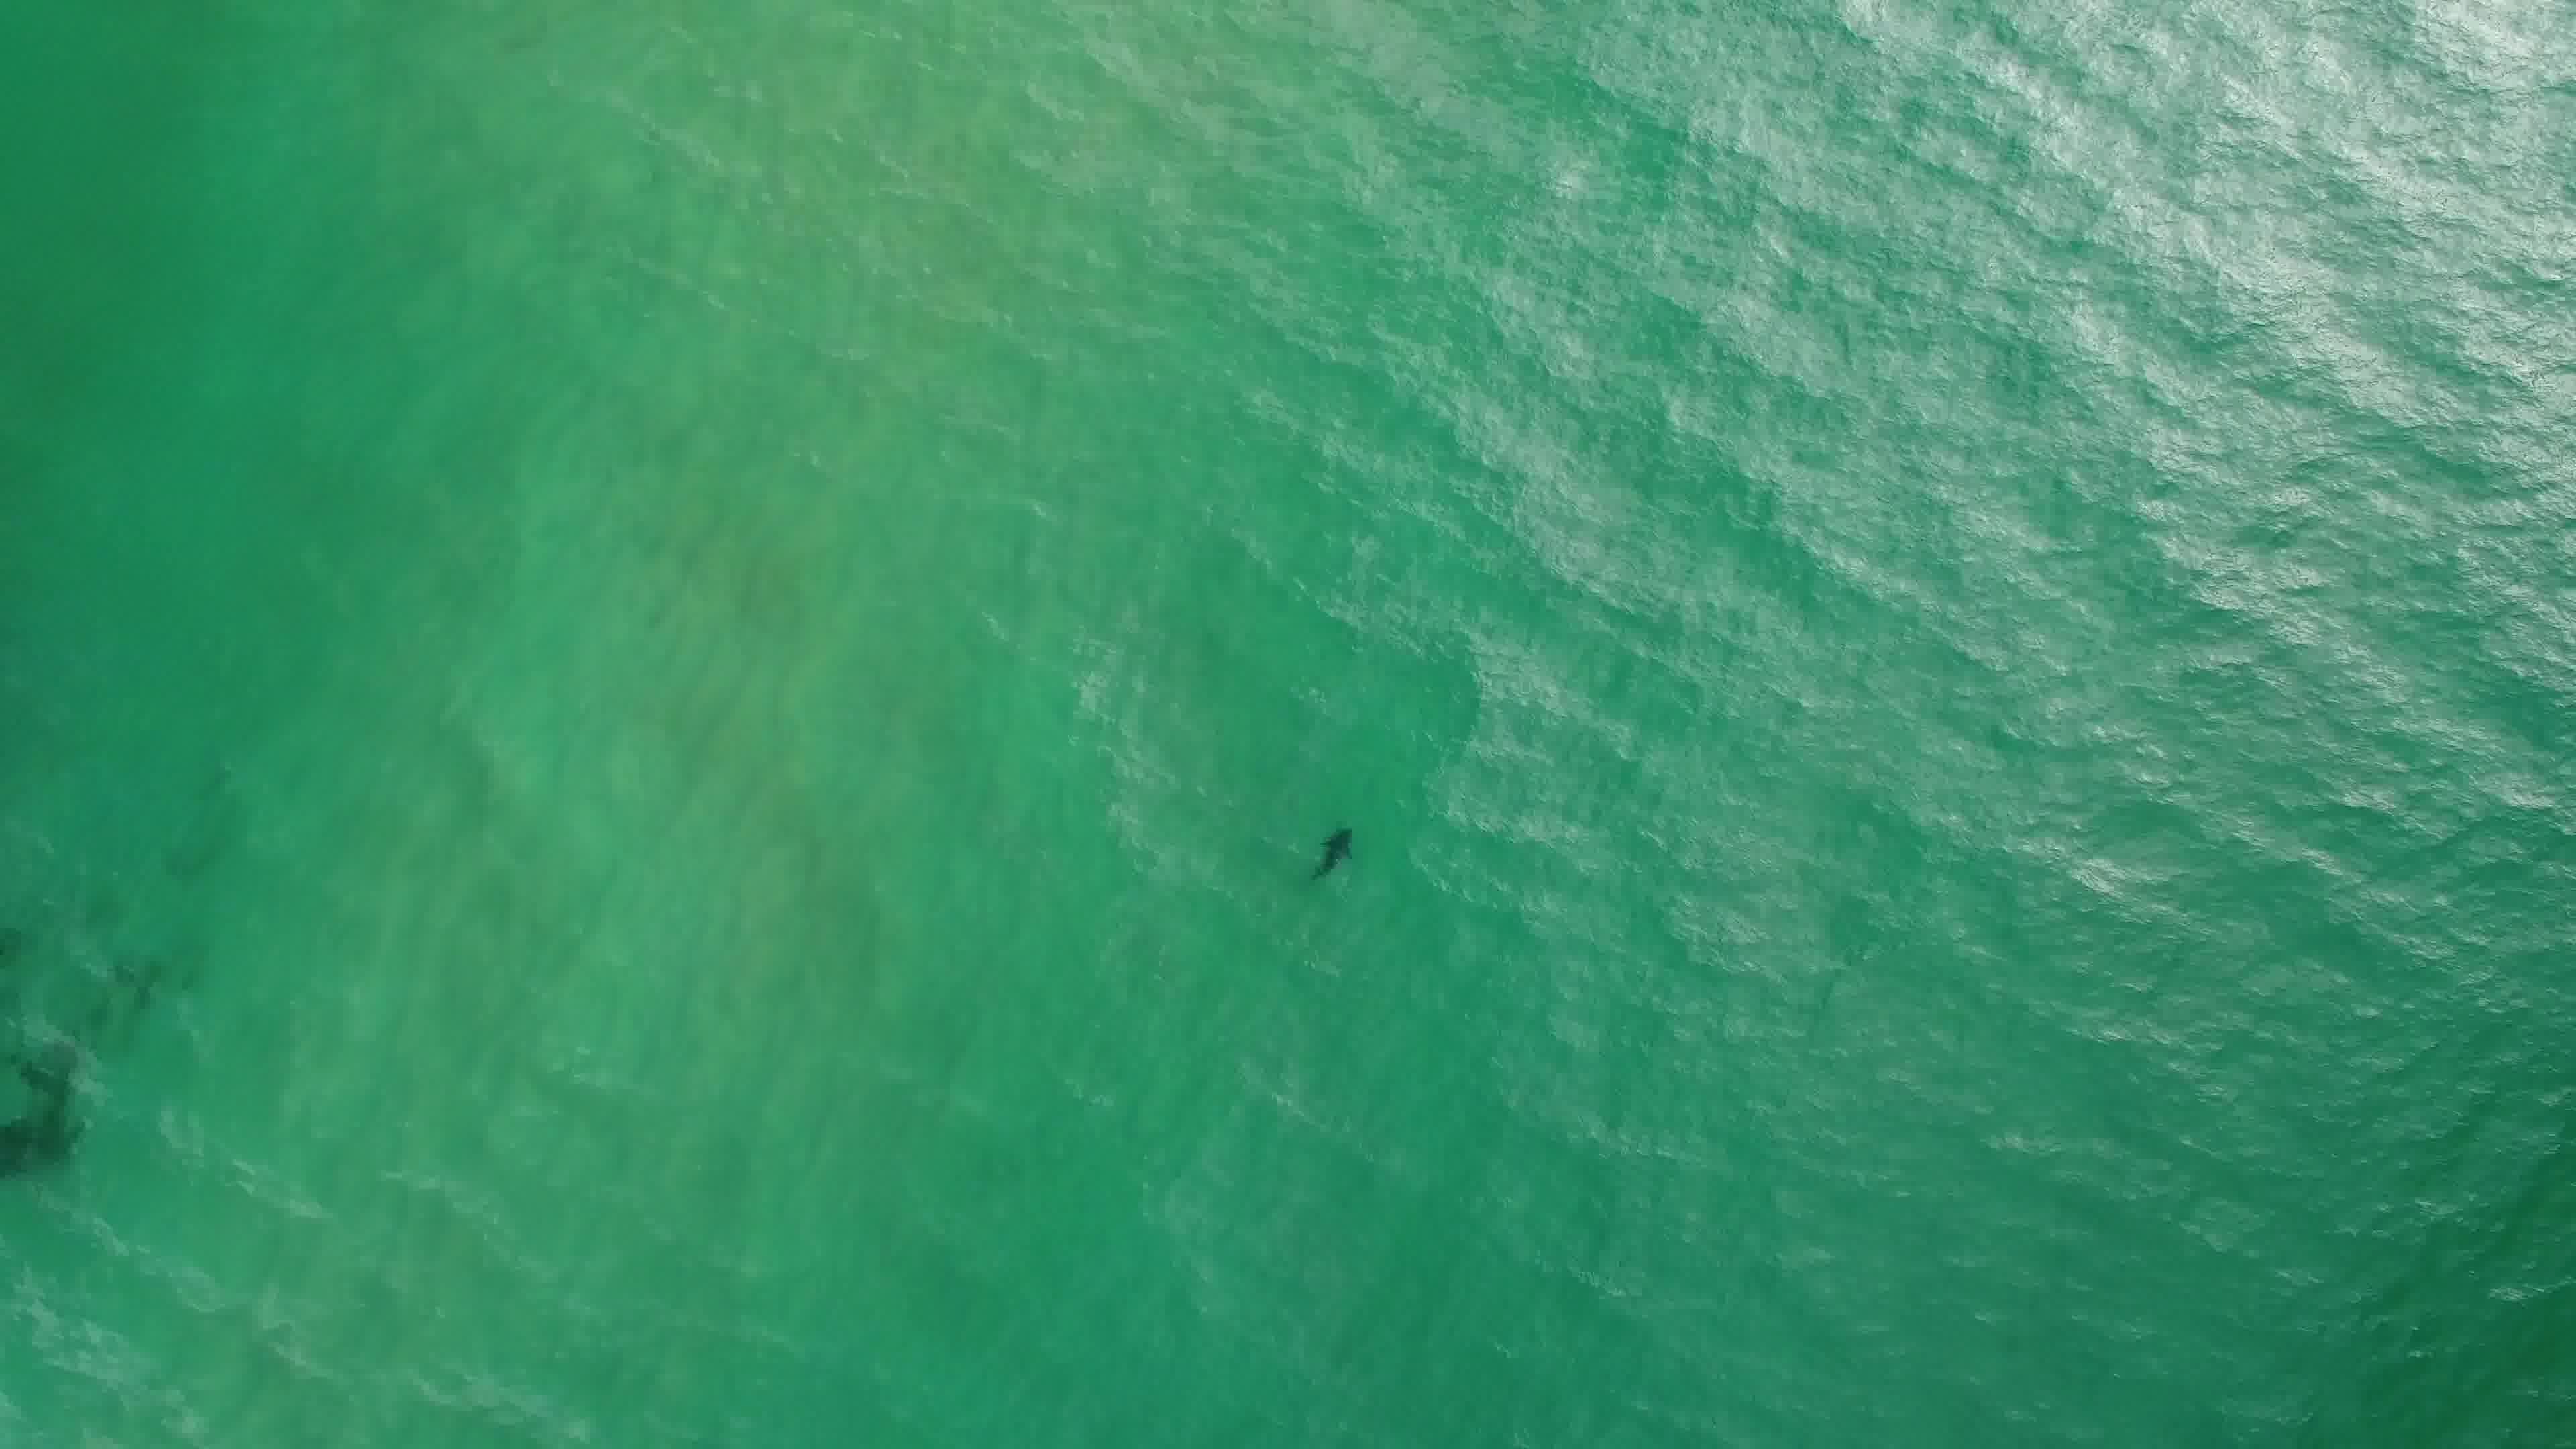shark: (1304, 823, 1361, 888)
